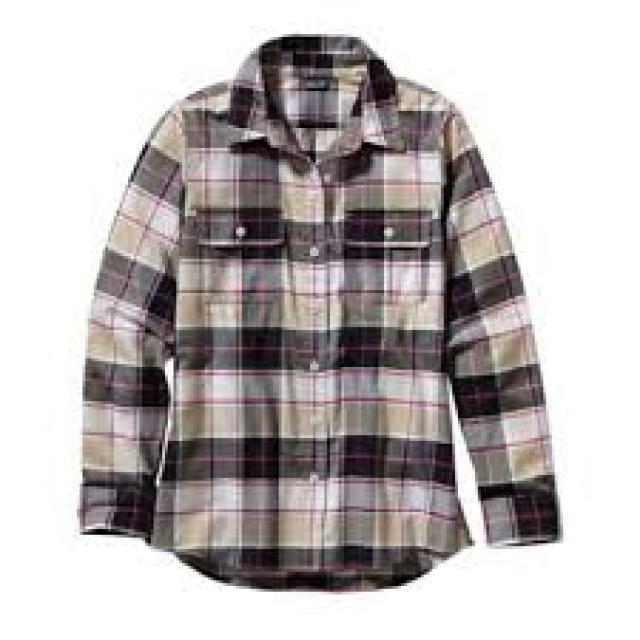plaid: (70, 26, 566, 596)
